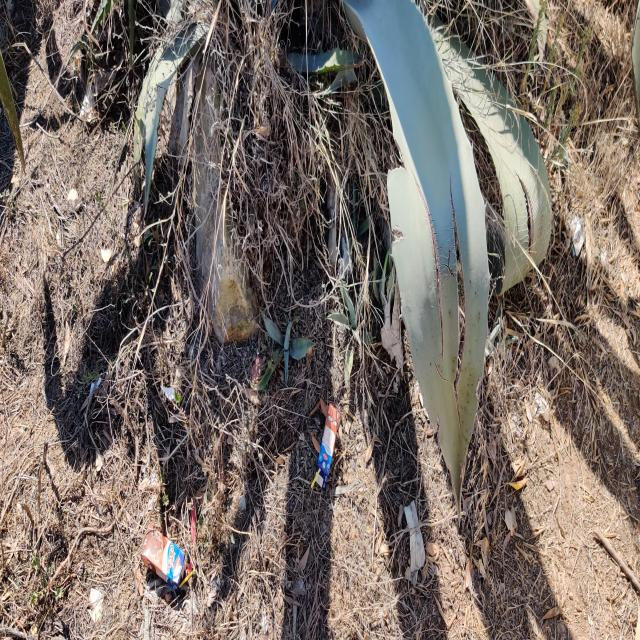litter: (141, 525, 194, 591), (311, 405, 340, 489), (404, 501, 425, 572), (569, 217, 585, 255), (161, 386, 181, 400)
